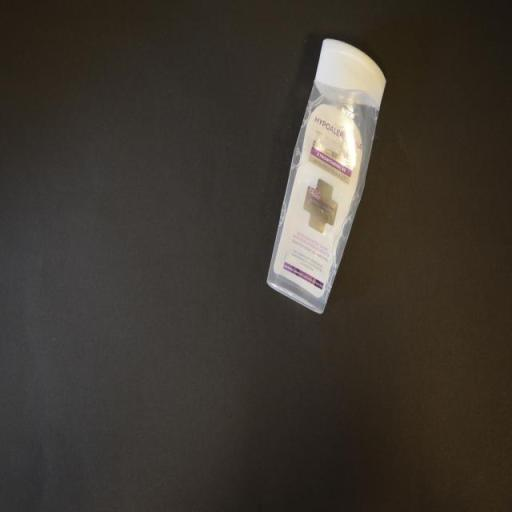plastic: (264, 34, 390, 320)
